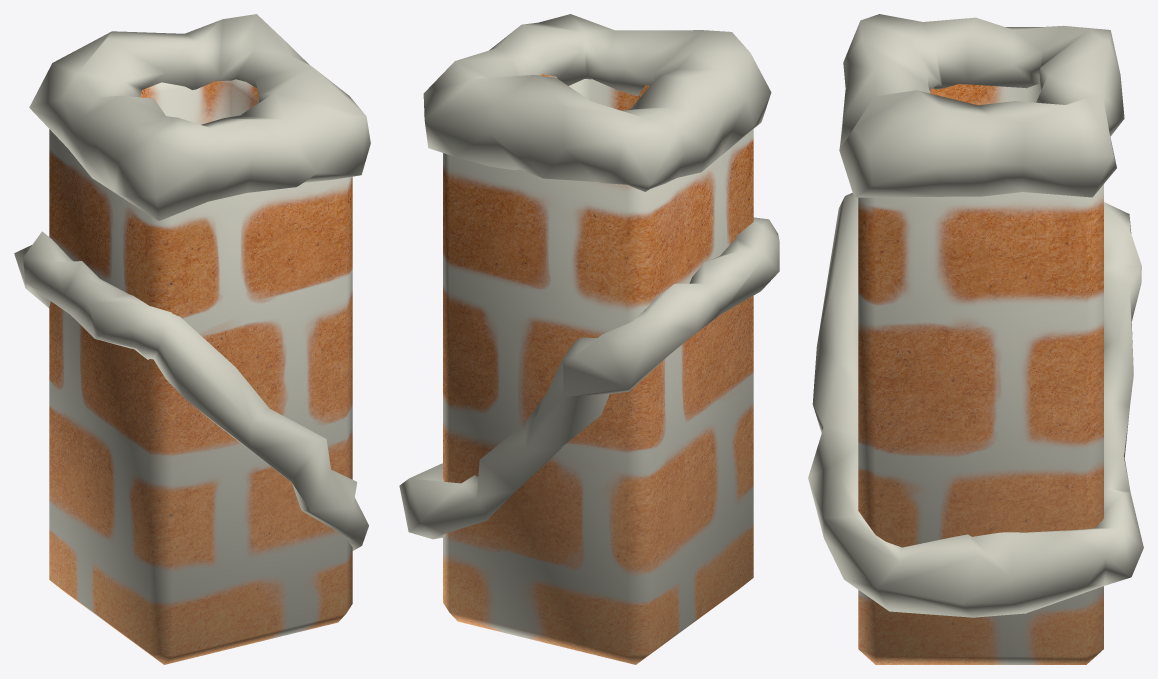
The model's file is Chimney.glb.
3 renders of one model, left to right at view 1: azimuth 30°, elevation 25°; view 2: azimuth 150°, elevation 25°; view 3: azimuth 270°, elevation 25°, orthographic. The views are drawn at different scales.
Parts seen in each view (by area): view 1: Chimney_Base_Baked, Chimney_Rim; view 2: Chimney_Base_Baked, Chimney_Rim; view 3: Chimney_Base_Baked, Chimney_Rim.
Boxes of the visible parts, x1,y1,x2,y2 form: Chimney_Base_Baked: (49,79,352,664); Chimney_Rim: (14,14,370,550); Chimney_Base_Baked: (443,74,753,664); Chimney_Rim: (399,14,779,539); Chimney_Base_Baked: (858,84,1103,664); Chimney_Rim: (808,14,1143,617).
Size of the model in its own units: 0.0229 by 0.043 by 0.023.
Materials: 2 (1 with a texture image).
